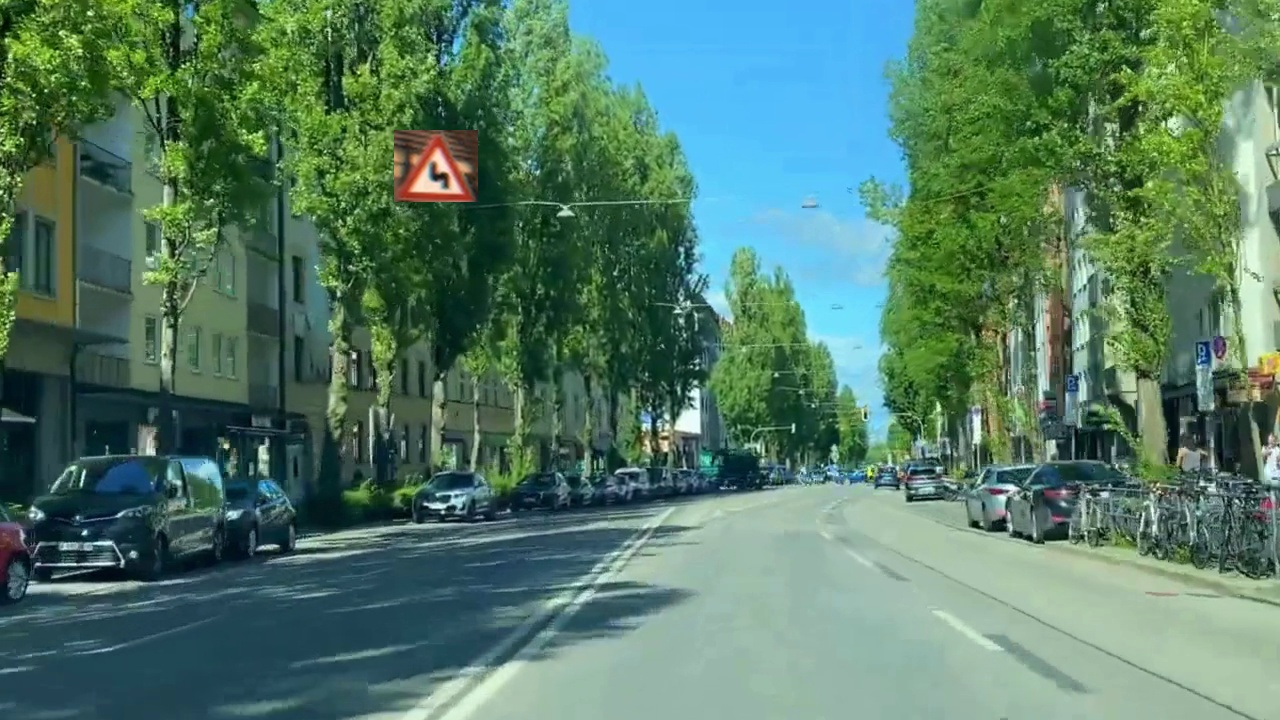Double curve: (394, 130, 478, 202)
